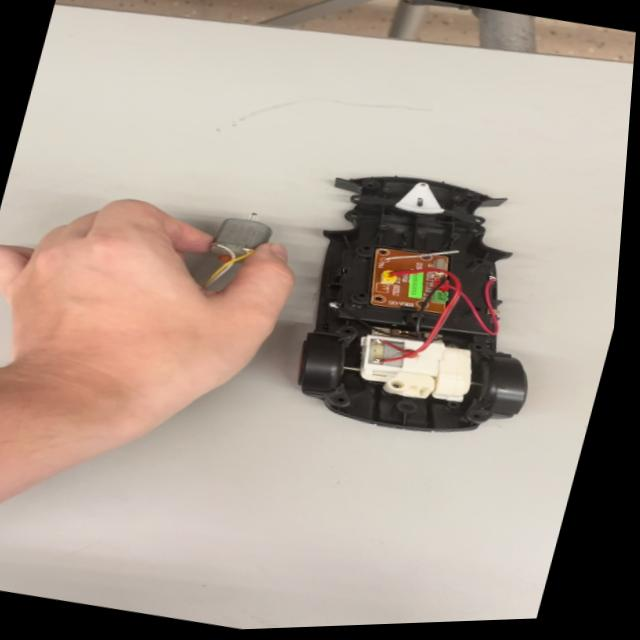Chassis: (275, 154, 572, 453)
motor: (201, 201, 292, 277)
